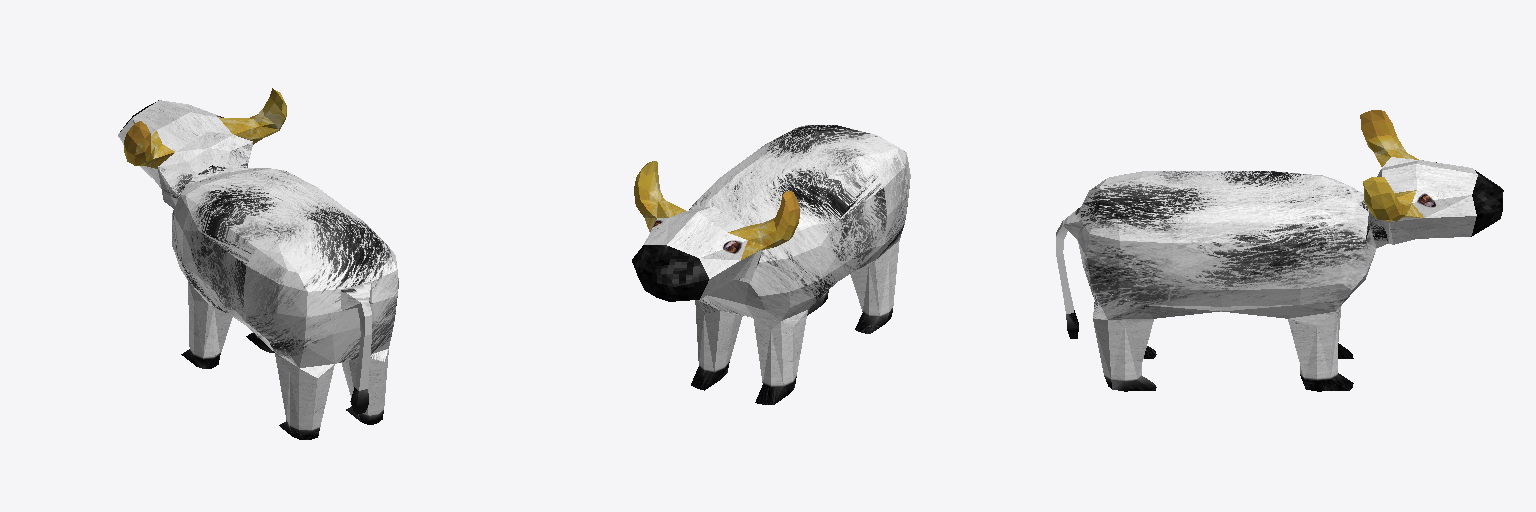
The picture shows the model from 3 angles: view 1: azimuth 30°, elevation 25°; view 2: azimuth 150°, elevation 25°; view 3: azimuth 270°, elevation 25°; orthographic projection.
Bounding box in the file's own units: 2.71 × 3.79 × 6.73.
1 materials, 1 textured.